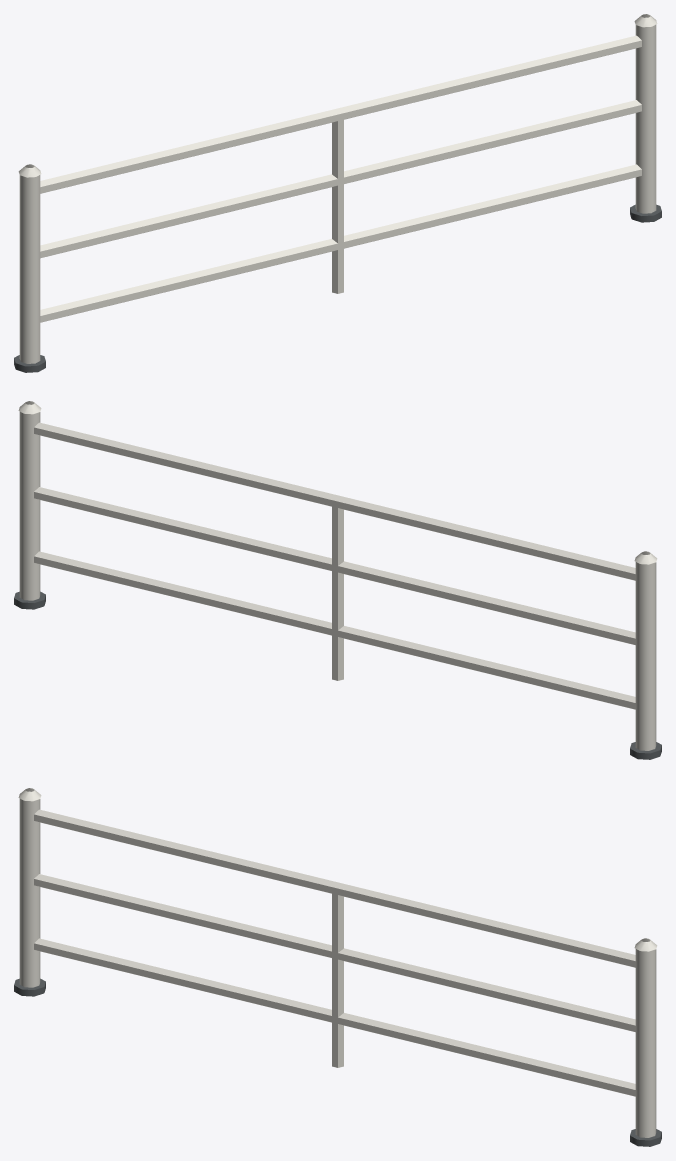
The model's file is tokyo_guard_rail.glb.
The picture shows the model from 3 angles, top to bottom: view 1: azimuth 30°, elevation 25°; view 2: azimuth 150°, elevation 25°; view 3: azimuth 330°, elevation 25°; orthographic projection.
Visible parts, largest first — view 1: tokyo_guard_rail; view 2: tokyo_guard_rail; view 3: tokyo_guard_rail.
Boxes of the visible parts, box(x1,y1,x2,y2) form: tokyo_guard_rail: box(14, 14, 661, 372); tokyo_guard_rail: box(14, 401, 661, 759); tokyo_guard_rail: box(14, 788, 661, 1146).
Size of the model in its own units: 3.14 by 0.93 by 0.14.
Materials: 1 (1 with a texture image).
